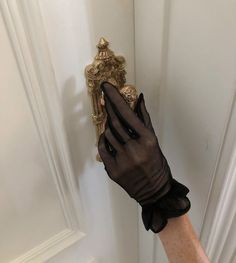gloves: (97, 82, 195, 230)
